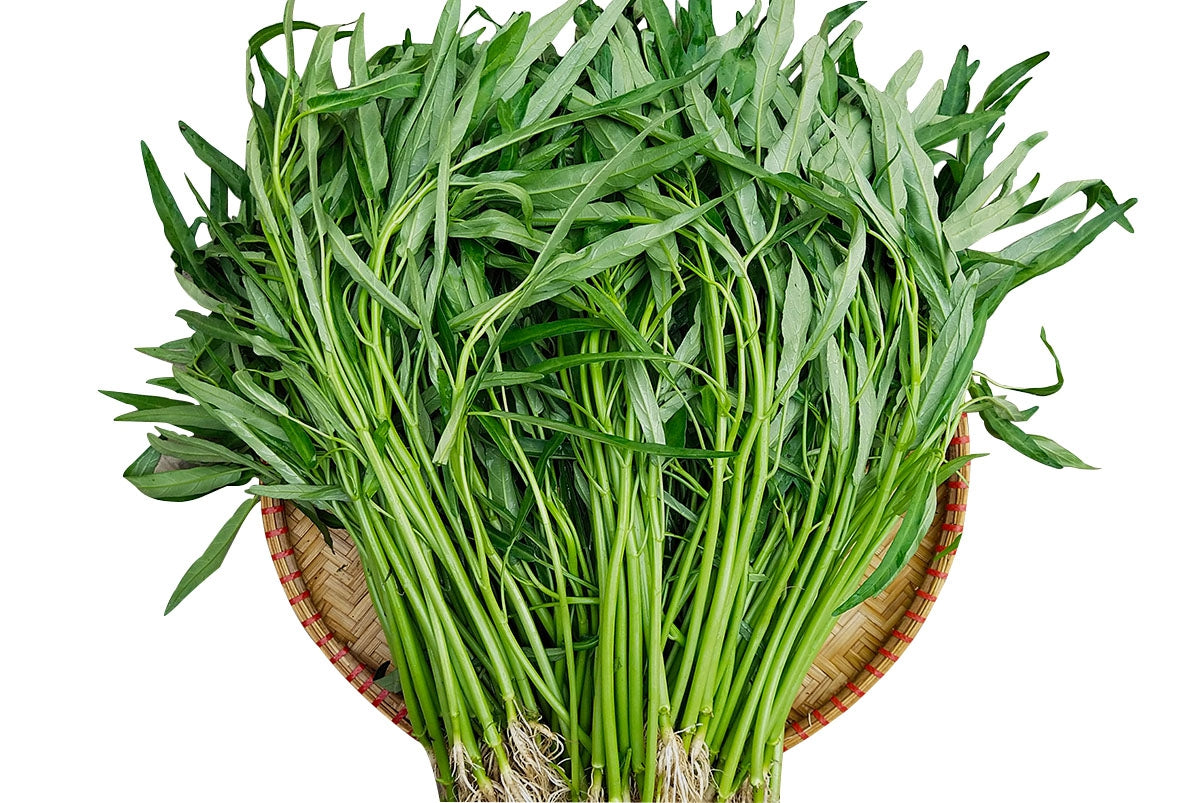Kangkung: (188, 42, 993, 795)
